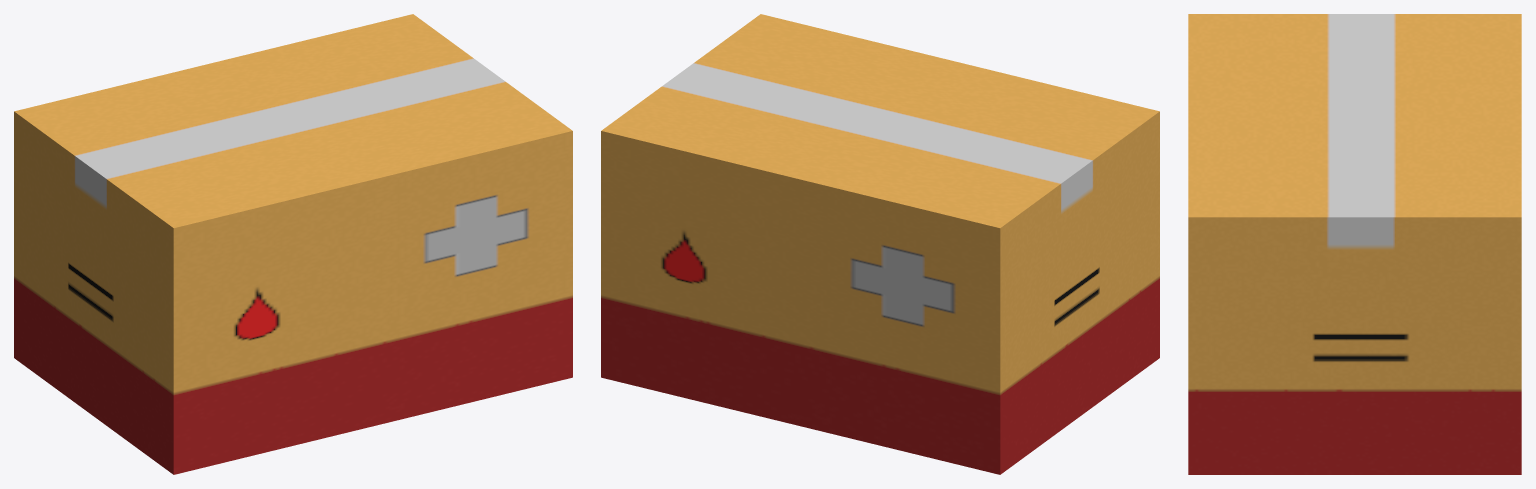
Rendered from Item_LabSyringePack.fbx.
3 renders of one model, left to right at view 1: azimuth 30°, elevation 25°; view 2: azimuth 150°, elevation 25°; view 3: azimuth 270°, elevation 25°, orthographic. The views are drawn at different scales.
Visible parts, largest first — view 1: Cube; view 2: Cube; view 3: Cube.
Boxes of the visible parts, box(x1,y1,x2,y2) form: Cube: box(14, 14, 572, 474); Cube: box(601, 14, 1159, 474); Cube: box(1188, 14, 1521, 474).
Bounding box in the file's own units: 0.1344 × 0.0794 × 0.0931.
